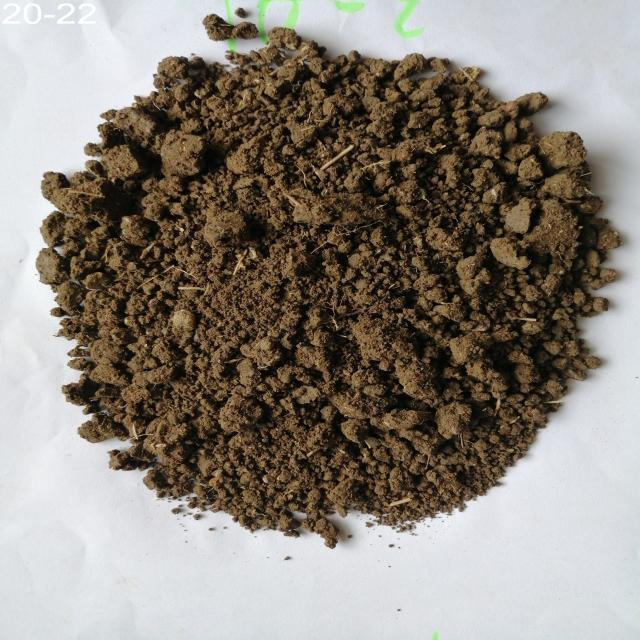soil: (140, 114, 518, 443)
